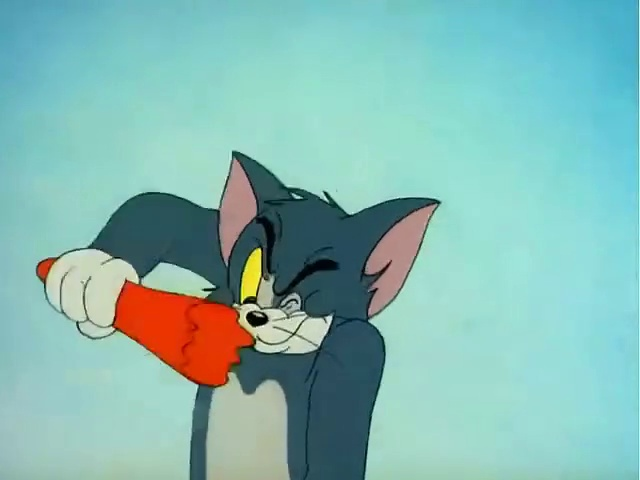tom: (65, 91, 464, 476)
